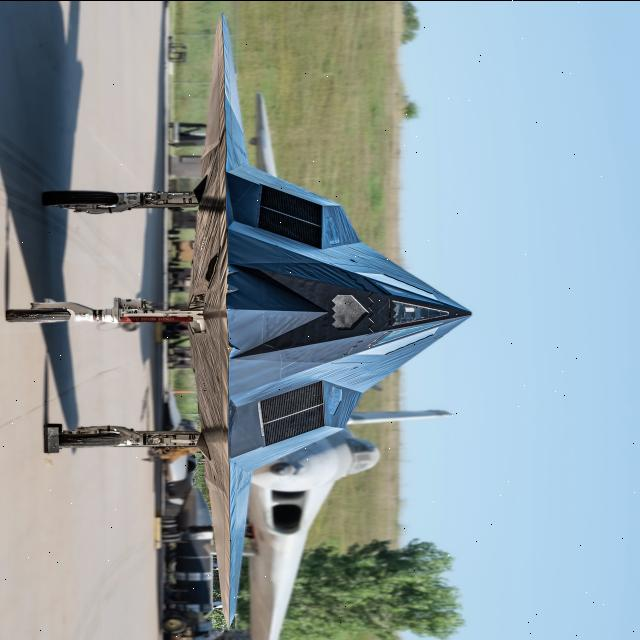F117: (2, 18, 508, 640)
